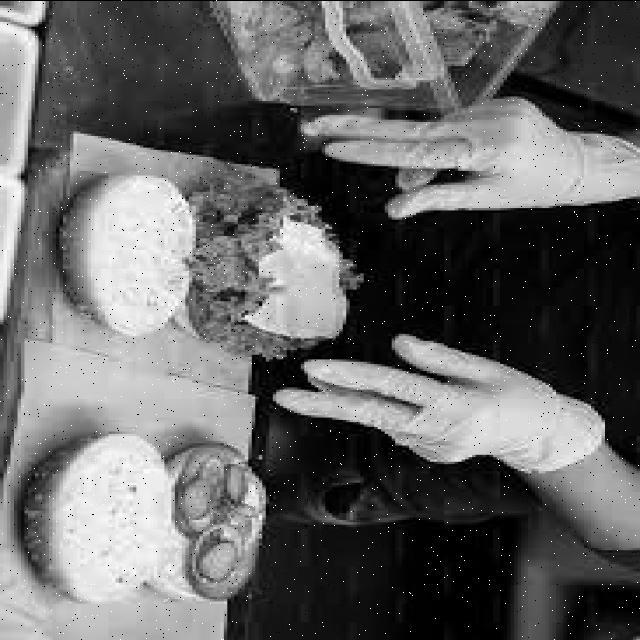apron: (267, 336, 601, 469), (292, 93, 640, 218)
